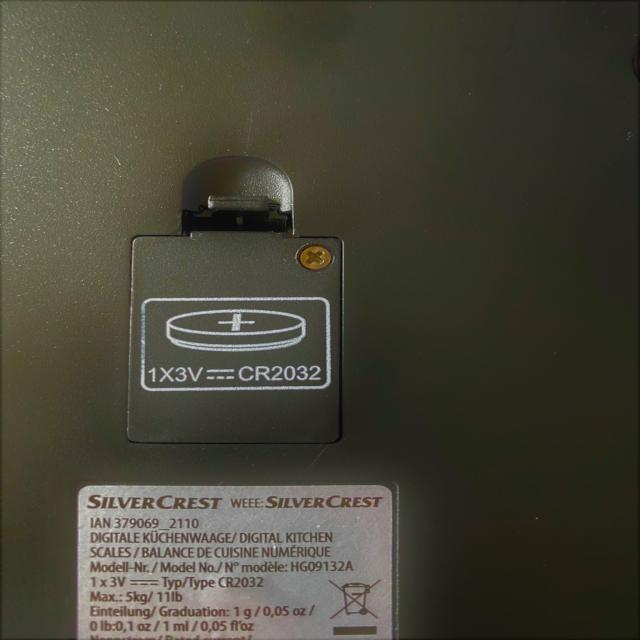PhillipsScrewHead: (298, 243, 334, 270)
